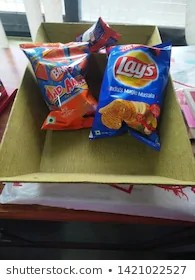lays-small: (88, 39, 175, 145)
